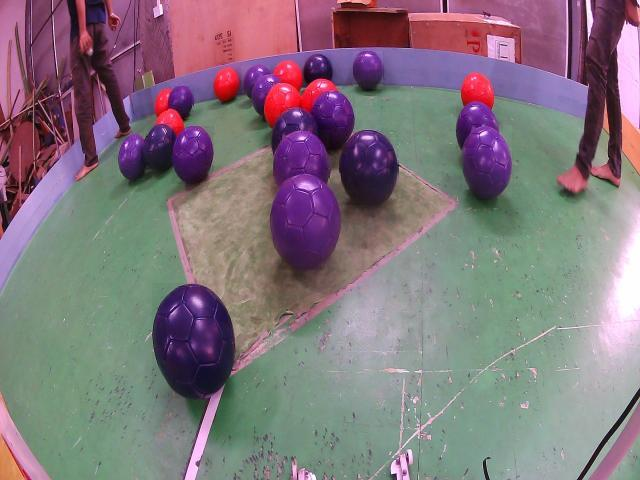jambhalya: (270, 174, 341, 270), (463, 125, 512, 198), (274, 130, 329, 184), (310, 92, 355, 149), (173, 127, 214, 184), (456, 102, 499, 148), (118, 134, 147, 180), (251, 75, 280, 117), (354, 52, 383, 89), (243, 65, 270, 98), (168, 87, 193, 119)
kaalyya: (153, 284, 235, 398), (340, 130, 398, 205), (271, 107, 319, 153), (144, 123, 176, 172), (304, 54, 332, 83)
